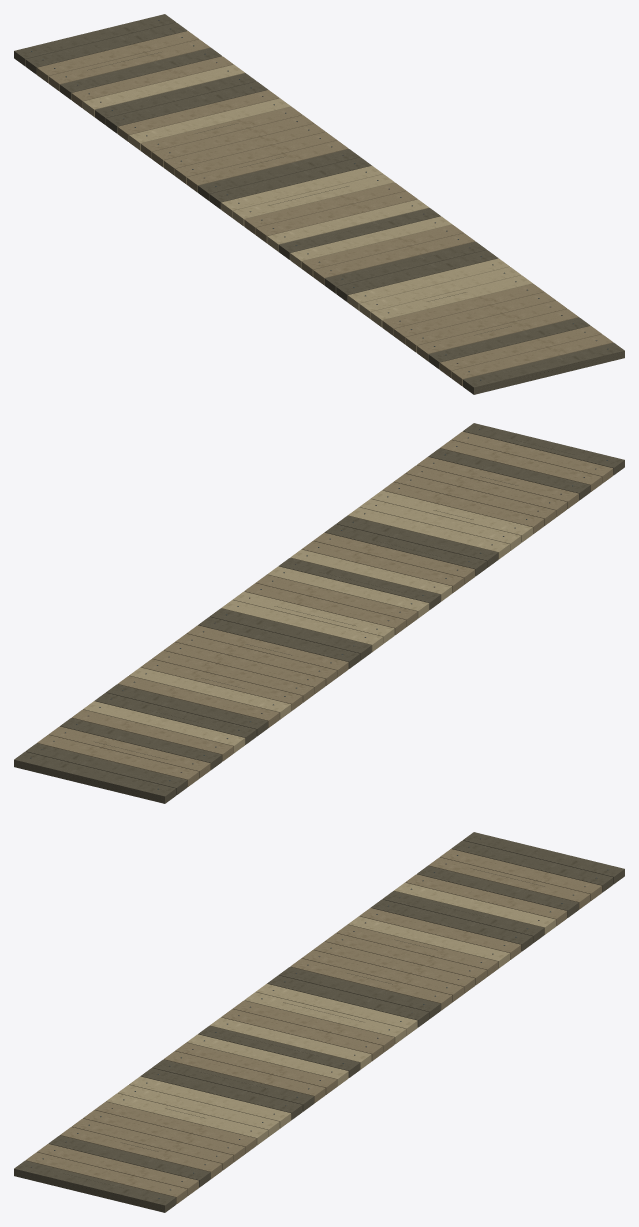
File: Platform_WeatheredBoards.obj
The picture shows the model from 3 angles, top to bottom: view 1: azimuth 30°, elevation 25°; view 2: azimuth 150°, elevation 25°; view 3: azimuth 330°, elevation 25°; orthographic projection.
Visible parts, largest first — view 1: Platform_WeatheredBoards; view 2: Platform_WeatheredBoards; view 3: Platform_WeatheredBoards.
Part boxes in pixels (<box>): Platform_WeatheredBoards: <box>14,14,624,394</box>; Platform_WeatheredBoards: <box>14,423,624,803</box>; Platform_WeatheredBoards: <box>14,832,624,1212</box>.
Size of the model in its own units: 1.91 by 0.096 by 10.07.
1 material, 1 textured.
